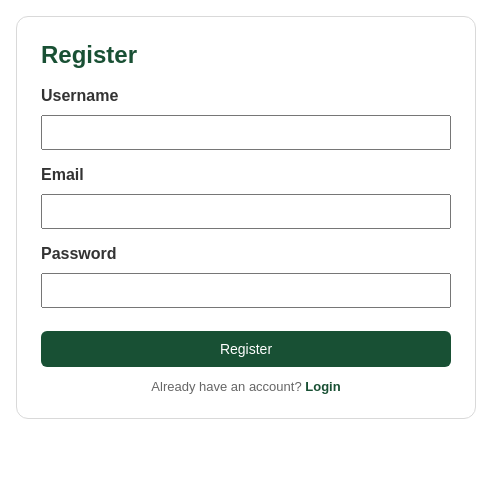
Test: Register › shows backend error message on failed registration
Type "TEST" into the field named "username" below "Username" at (246, 132), box [41, 115, 451, 150]
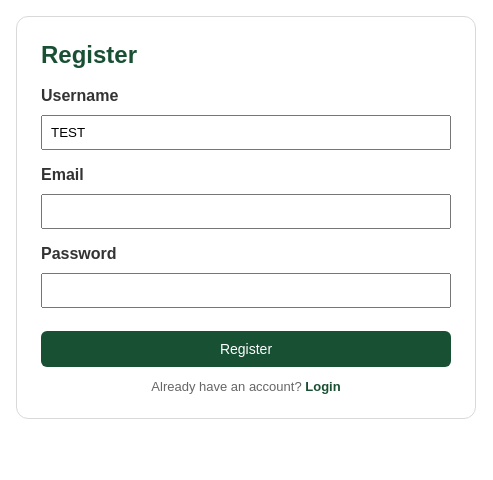
Type "test@example.com" into the field named "email" below "Email" at (246, 212), box [41, 194, 451, 229]
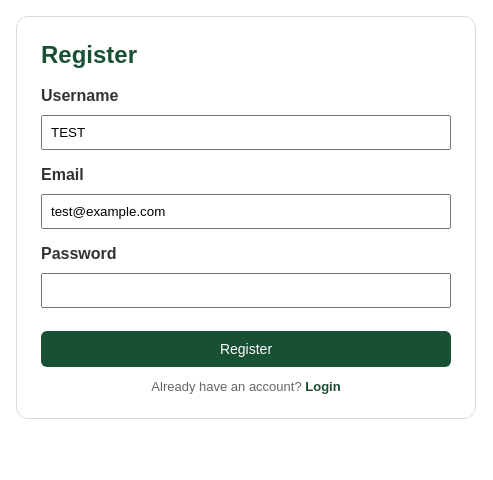
Type "123456" into the password field named "password" at (246, 290), box [41, 273, 451, 308]
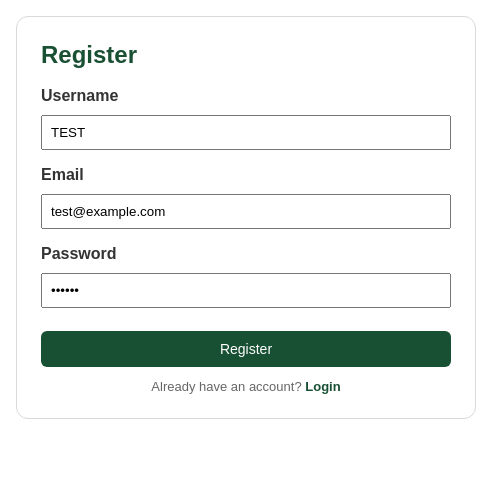
Click the button "Register" at (246, 349), box [41, 331, 451, 367]
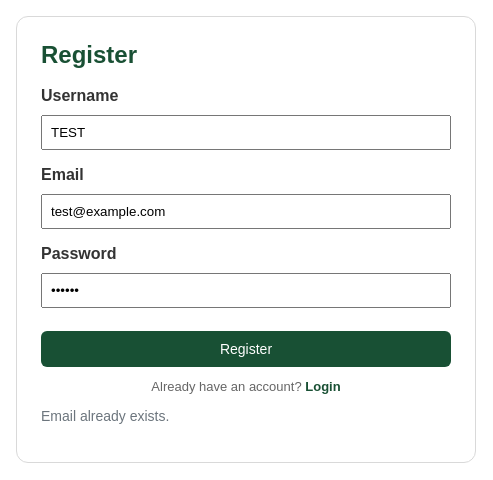
Now the text "Email already exists." is shown, box [41, 408, 169, 424]
